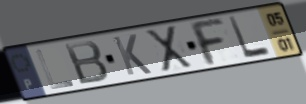B: (62, 39, 111, 87)
F: (186, 17, 228, 68)
K: (110, 33, 154, 78)
L: (226, 15, 274, 61), (34, 48, 77, 91)
X: (143, 24, 196, 74)
